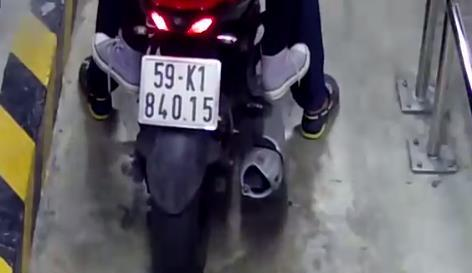lisence: (139, 54, 220, 130)
